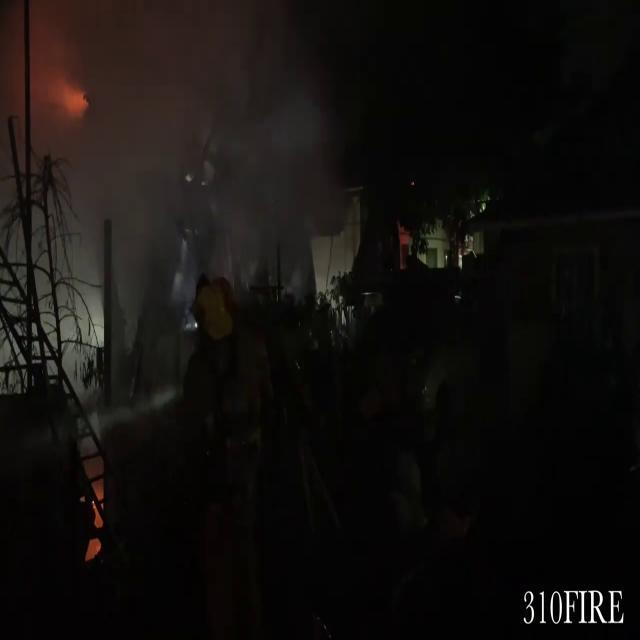Smoke: (0, 0, 345, 265)
